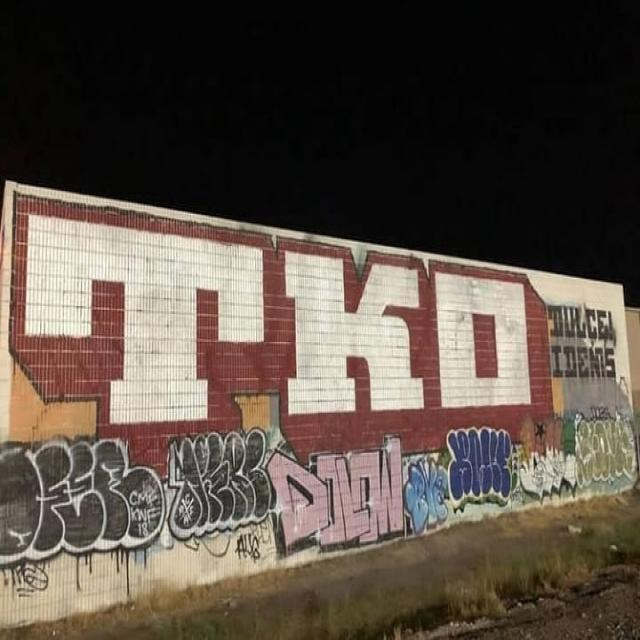nonspitting: (10, 192, 552, 474), (3, 437, 161, 563), (266, 436, 406, 548), (169, 427, 274, 535), (547, 304, 617, 379), (447, 427, 510, 499), (574, 419, 637, 485), (404, 458, 451, 532)
